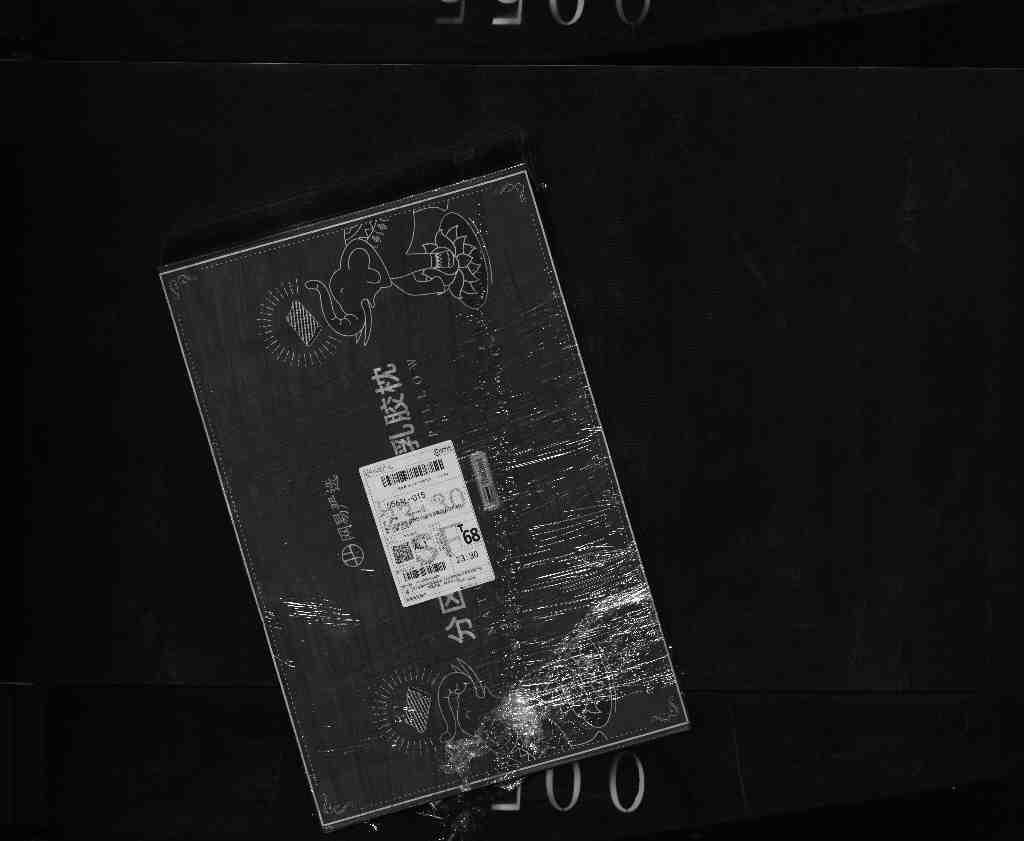box: (149, 141, 698, 828)
